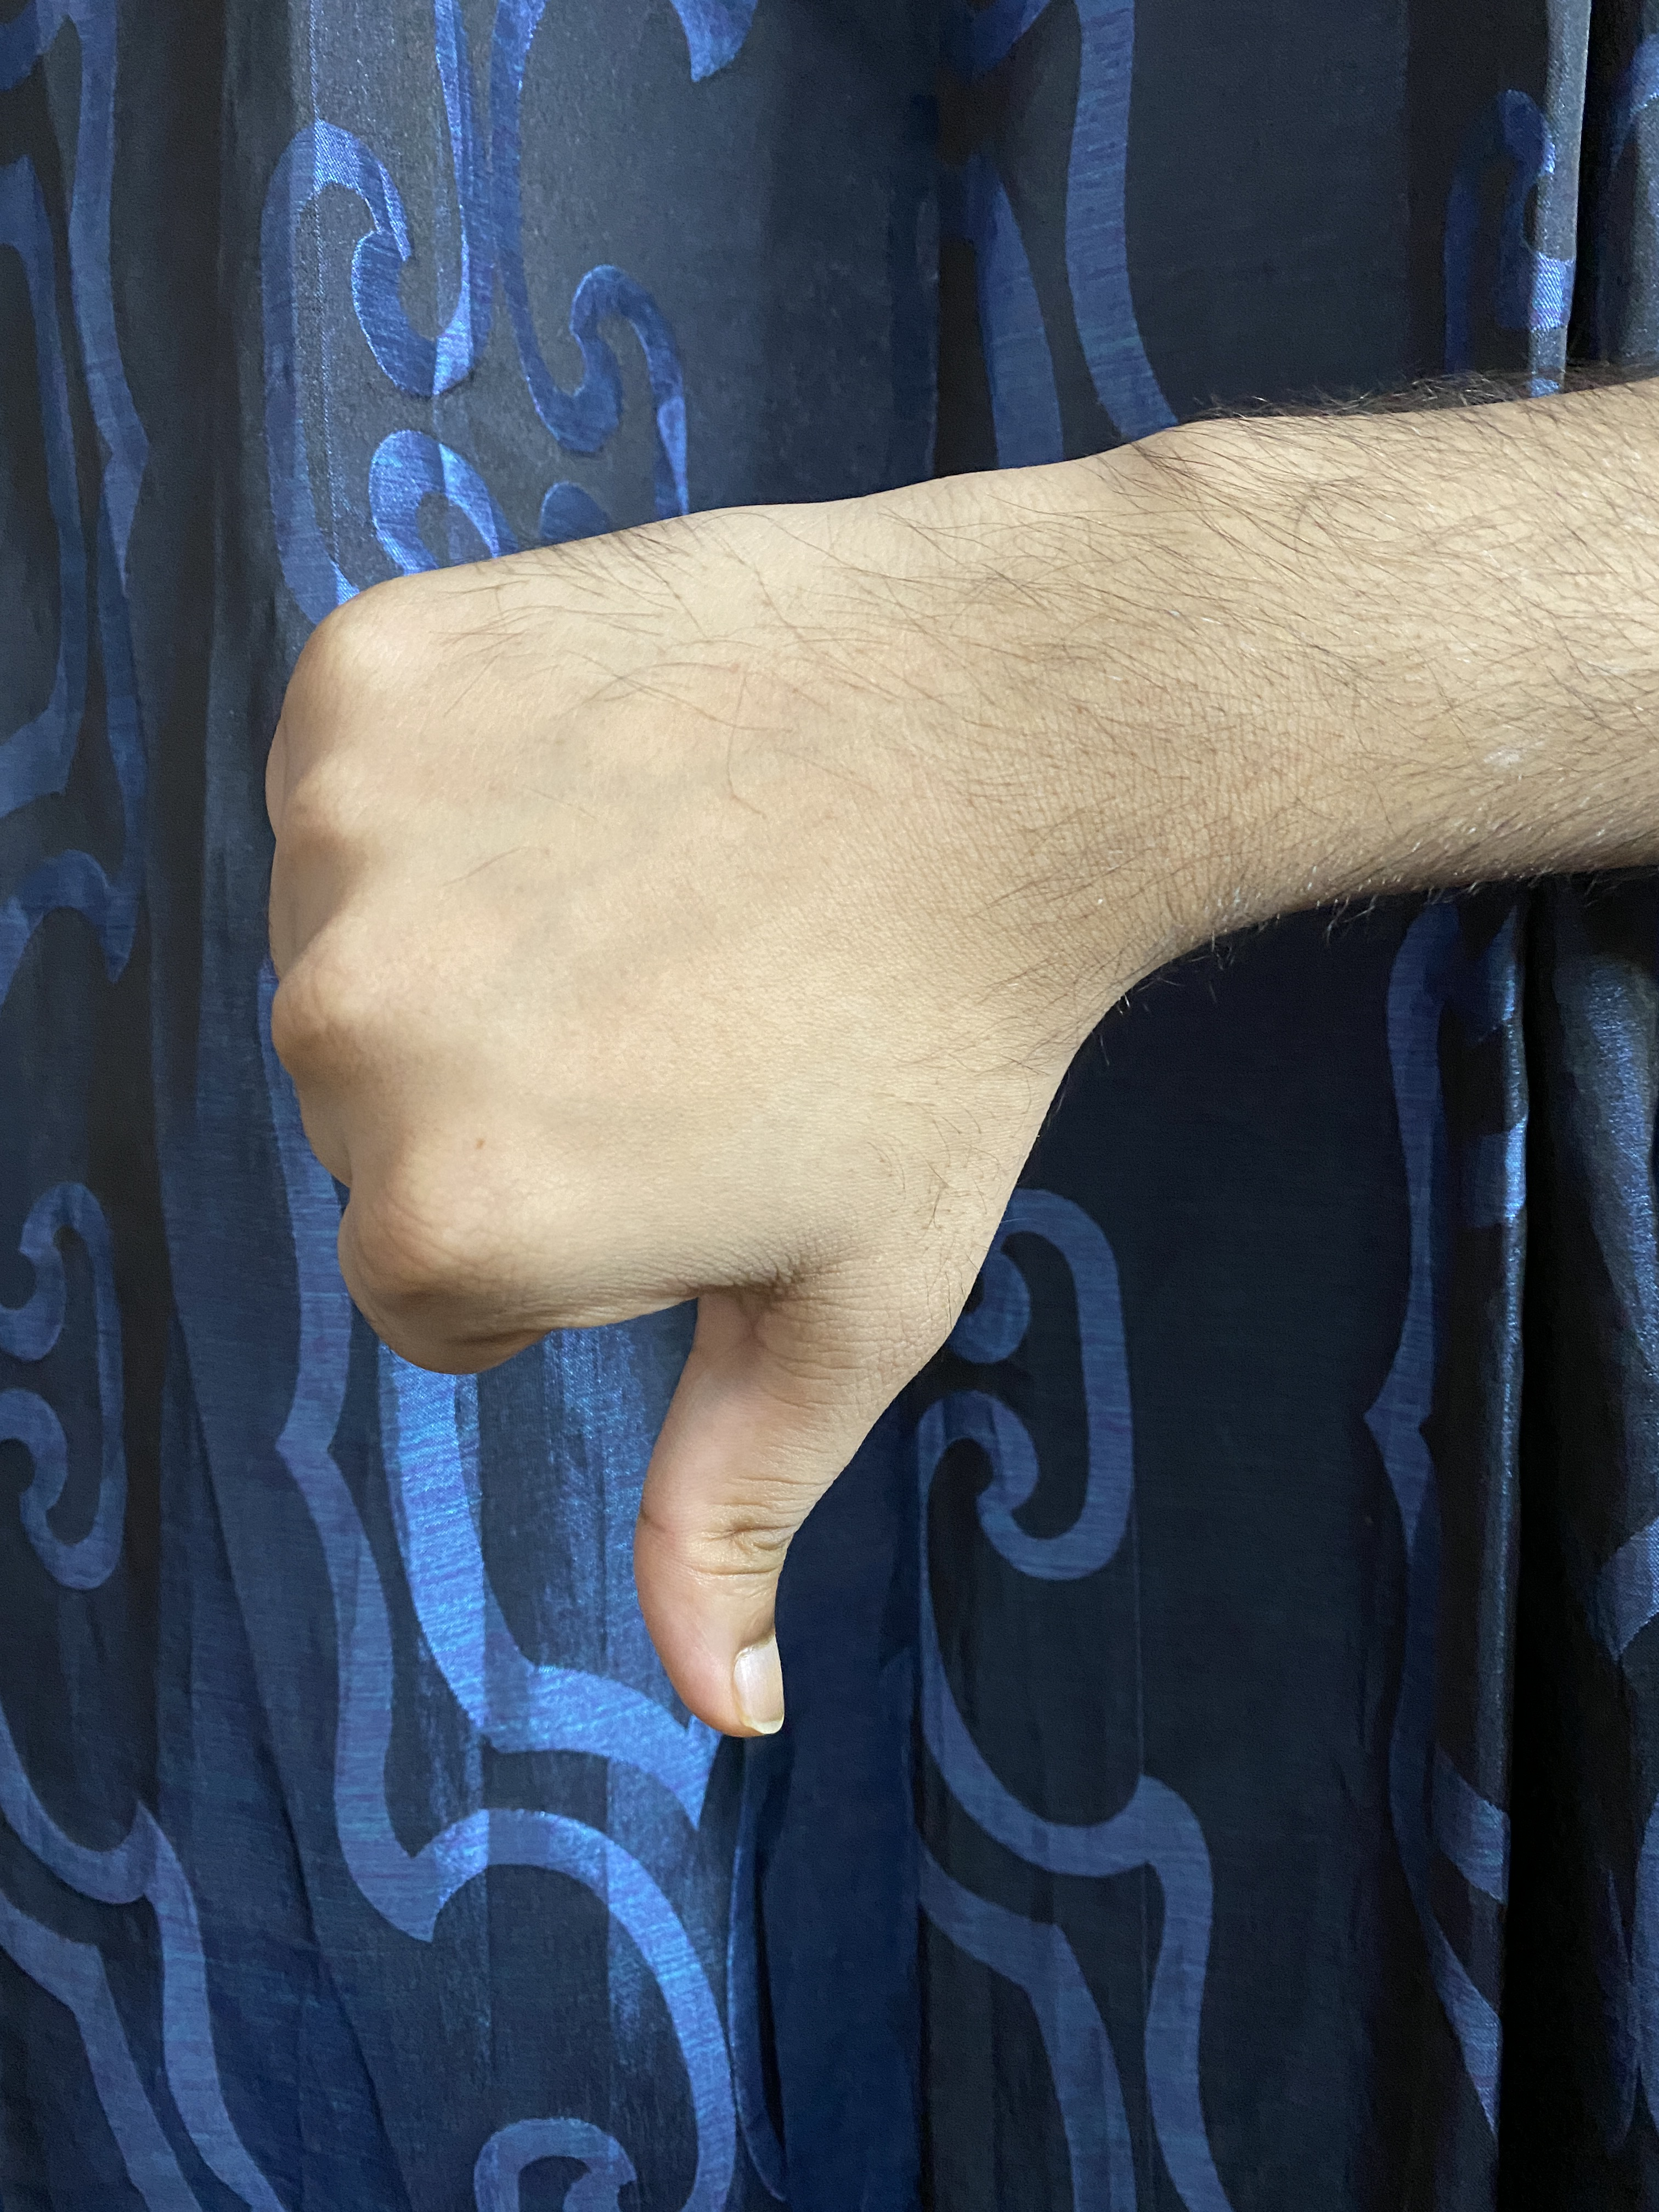down: (200, 343, 1659, 1777)
